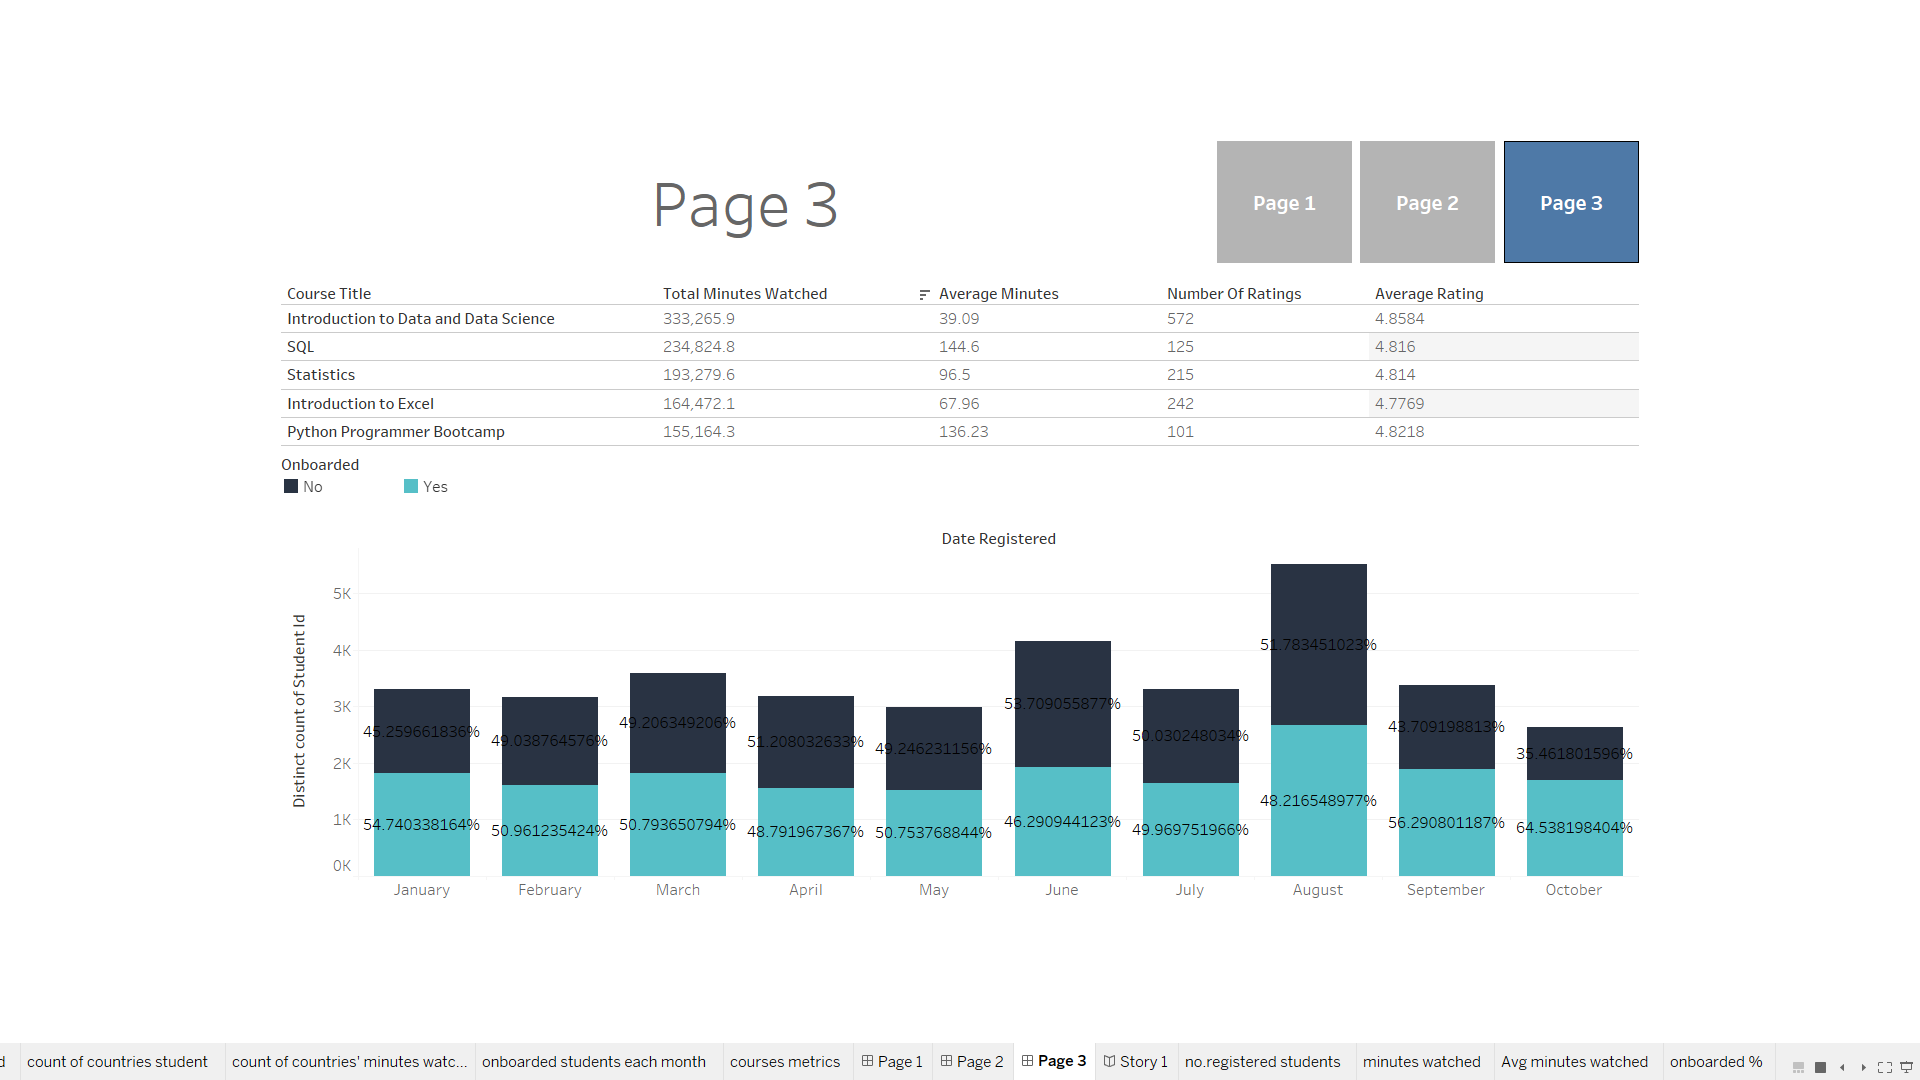

What the dashboard file says about the page in this screenshot:
{"tool":"tableau","page":{"name":"Page 3","canvas":[1366,768],"ordinal":2},"visuals":[{"type":"text","box":[0,0,936,130]},{"type":"dashboard-object","box":[936,0,143.3,130]},{"type":"dashboard-object","box":[1079.3,0,143.3,130]},{"type":"dashboard-object","box":[1222.7,0,143.3,130]},{"type":"worksheet","title":"courses metrics","mark":"Automatic","rows":["course_title","total_minutes_watched","average_minutes","number_of_ratings","average_rating"],"box":[0,130,1366,183]},{"type":"legend","title":"onboarded students each month","param":"[federated.0qudcsv05uts8n14vjasq0xkklva].[none:onboarded:ok]","box":[0,313,1366,59]},{"type":"worksheet","title":"onboarded students each month","mark":"Bar","rows":["student_id"],"cols":["date_registered"],"box":[0,372,1366,396]}]}

Visuals, with their boxes on the page's 1366x768 design canvas (x1, y1, x2, y2). These are canvas units, not pixel positions in the 1920x1080 screenshot, which may show the page scaled, cropped or inside an application window:
text: {"left": 0, "top": 0, "right": 936, "bottom": 130}
dashboard-object: {"left": 936, "top": 0, "right": 1079, "bottom": 130}
dashboard-object: {"left": 1079, "top": 0, "right": 1223, "bottom": 130}
dashboard-object: {"left": 1223, "top": 0, "right": 1366, "bottom": 130}
"courses metrics" worksheet: {"left": 0, "top": 130, "right": 1366, "bottom": 313}
"onboarded students each month" legend: {"left": 0, "top": 313, "right": 1366, "bottom": 372}
"onboarded students each month" worksheet (Bar marks): {"left": 0, "top": 372, "right": 1366, "bottom": 768}
